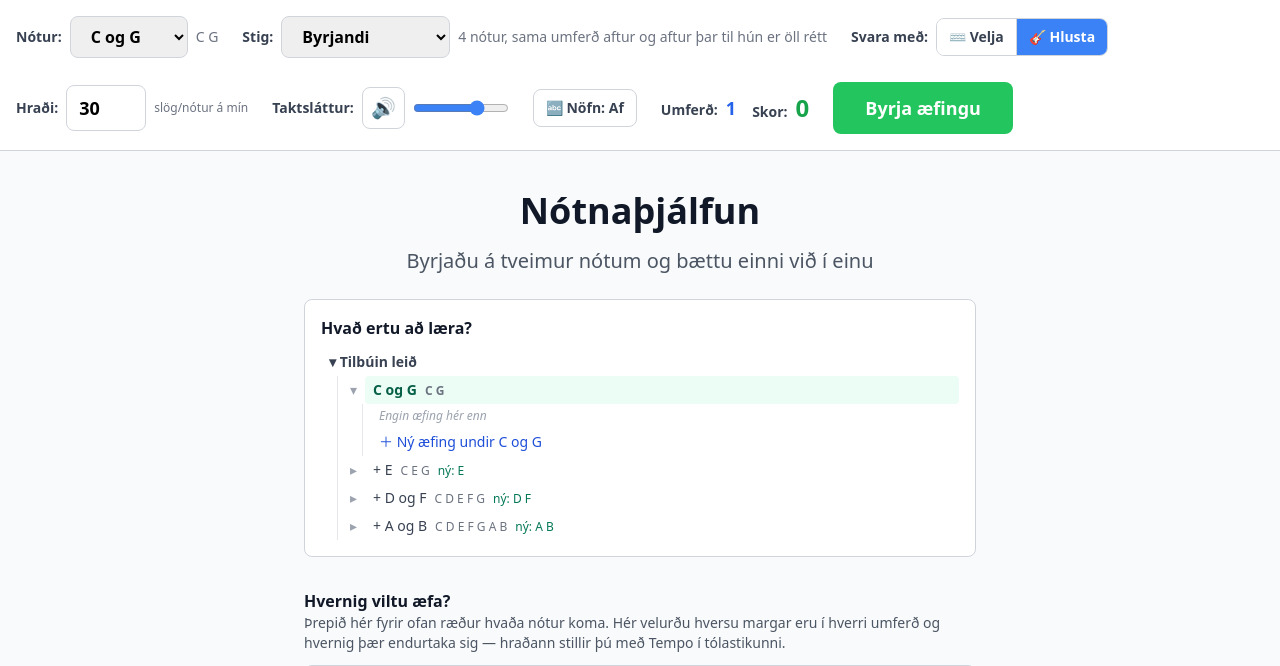
Test case: NotectorGame — the lesson path › picking a lesson in the tree changes which notes the round draws from
This screenshot has width=1280, height=666.
Check: the dropdown named "Hvaða nótur á að æfa" shows "C og G", box top-left (70, 16), bottom-right (188, 58)
Click the button "+ D og FC D E F Gný: D F": (400, 498) top-left (365, 484), bottom-right (959, 512)
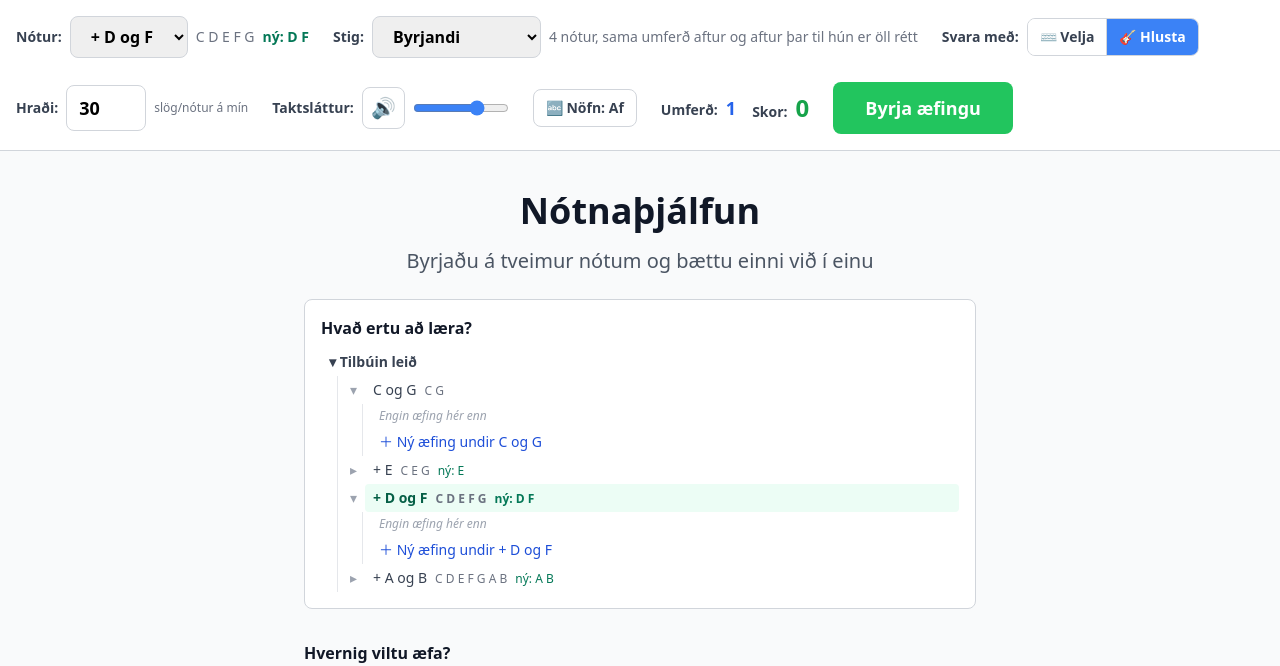
Check: the dropdown named "Hvaða nótur á að æfa" shows "+ D og F", box top-left (70, 16), bottom-right (188, 58)
